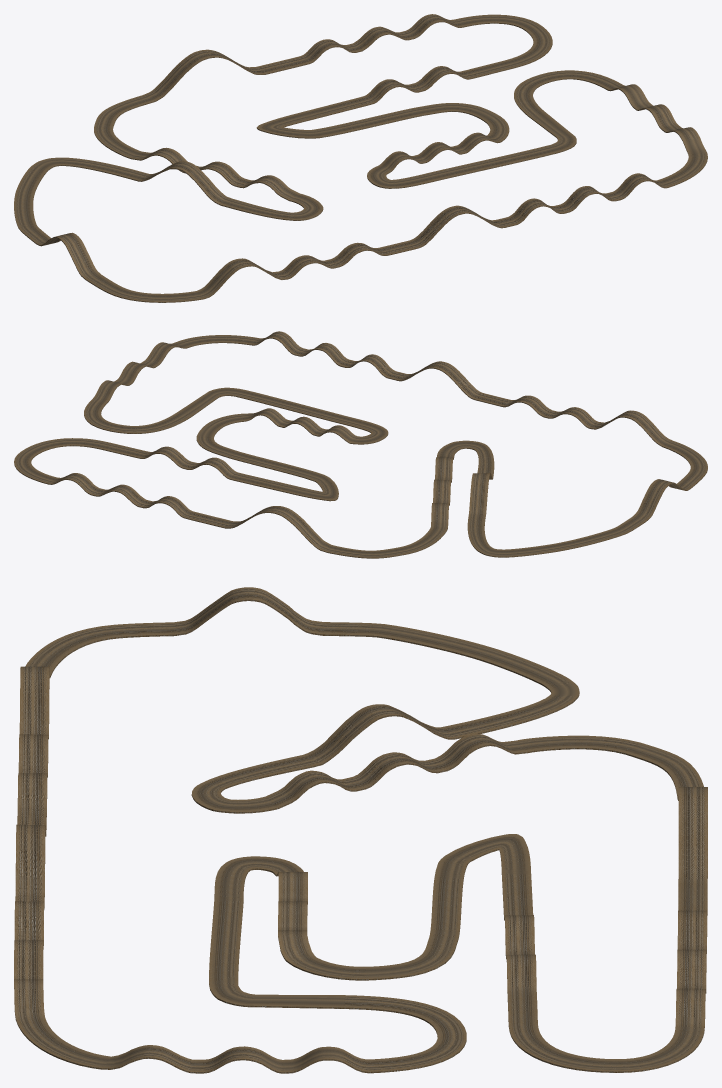
The model's file is fourth.fbx.
3 views of the same model, one above another, from view 1: azimuth 30°, elevation 25°; view 2: azimuth 150°, elevation 25°; view 3: azimuth 270°, elevation 25° (orthographic). The views are drawn at different scales.
Parts seen in each view (by area): view 1: beveledSurface6; view 2: beveledSurface6; view 3: beveledSurface6.
Part boxes in pixels (<box>): beveledSurface6: <box>14,14,707,302</box>; beveledSurface6: <box>14,331,707,558</box>; beveledSurface6: <box>14,587,707,1073</box>.
Size of the model in its own units: 66.61 by 3.26 by 43.3.
Materials: 1 (1 with a texture image).
